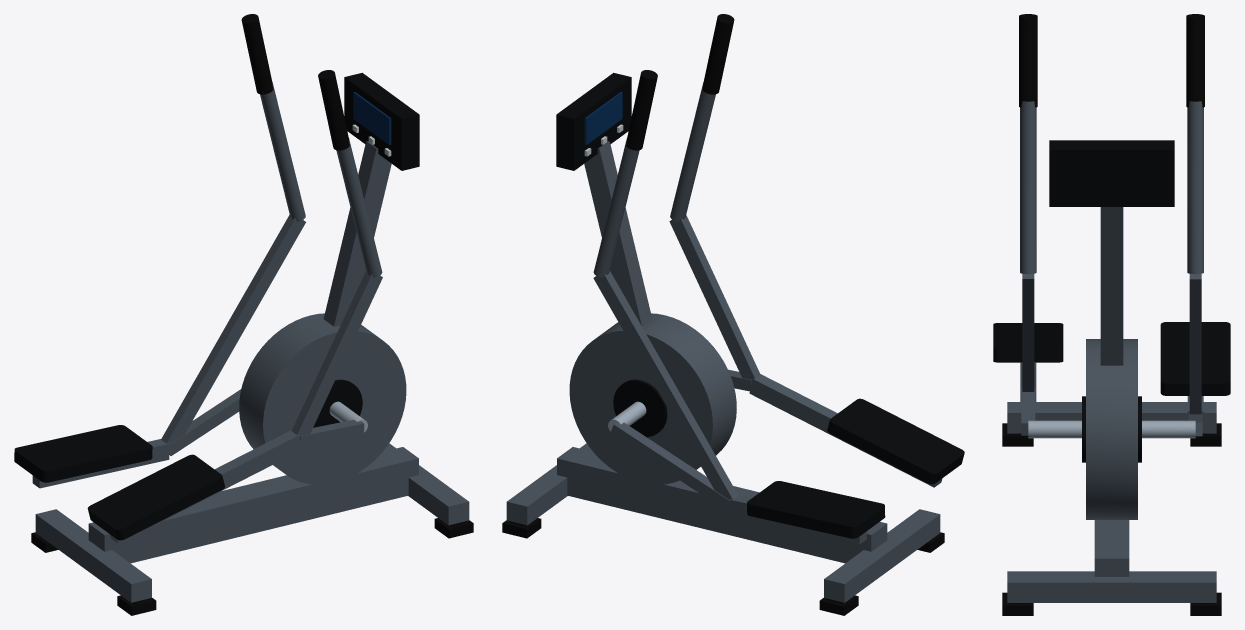
The model's file is cad_elliptical.glb.
The picture shows the model from 3 angles, left to right: view 1: azimuth 30°, elevation 25°; view 2: azimuth 150°, elevation 25°; view 3: azimuth 270°, elevation 25°; orthographic projection. The views are drawn at different scales.
Visible parts, largest first — view 1: 000_Stabilizer rail, 007_Flywheel enclosure, 011_Control console, 017_Crank link, 020_Pedal to arm linkage, 022_Moving handle grip, 001_Rubber floor foot, 008_Flywheel centre cover, 012_Inset display; view 2: 000_Stabilizer rail, 007_Flywheel enclosure, 011_Control console, 017_Crank link, 020_Pedal to arm linkage, 022_Moving handle grip, 008_Flywheel centre cover, 001_Rubber floor foot, 012_Inset display; view 3: 011_Control console, 000_Stabilizer rail, 007_Flywheel enclosure, 017_Crank link, 022_Moving handle grip, 020_Pedal to arm linkage, 016_Crank axle, 001_Rubber floor foot, 008_Flywheel centre cover.
Boxes of the visible parts, x1,y1,x2,y2 form: 000_Stabilizer rail: [35, 141, 469, 602]; 007_Flywheel enclosure: [239, 313, 406, 484]; 011_Control console: [14, 72, 419, 540]; 017_Crank link: [32, 82, 382, 543]; 020_Pedal to arm linkage: [161, 215, 382, 443]; 022_Moving handle grip: [241, 14, 349, 150]; 001_Rubber floor foot: [31, 518, 473, 615]; 008_Flywheel centre cover: [313, 379, 362, 427]; 012_Inset display: [353, 92, 391, 144]; 000_Stabilizer rail: [506, 141, 940, 602]; 007_Flywheel enclosure: [569, 313, 736, 484]; 011_Control console: [556, 72, 964, 538]; 017_Crank link: [593, 82, 942, 544]; 020_Pedal to arm linkage: [593, 215, 760, 499]; 022_Moving handle grip: [626, 14, 734, 150]; 008_Flywheel centre cover: [613, 379, 667, 437]; 001_Rubber floor foot: [502, 518, 944, 615]; 012_Inset display: [584, 92, 622, 144]; 011_Control console: [993, 140, 1230, 395]; 000_Stabilizer rail: [1007, 207, 1216, 602]; 007_Flywheel enclosure: [1086, 339, 1137, 519]; 017_Crank link: [1020, 101, 1203, 436]; 022_Moving handle grip: [1019, 14, 1204, 107]; 020_Pedal to arm linkage: [1022, 273, 1201, 414]; 016_Crank axle: [1028, 420, 1195, 438]; 001_Rubber floor foot: [1002, 423, 1221, 615]; 008_Flywheel centre cover: [1082, 396, 1141, 462].
Bounding box in the file's own units: 1.31 × 1.68 × 0.68.
